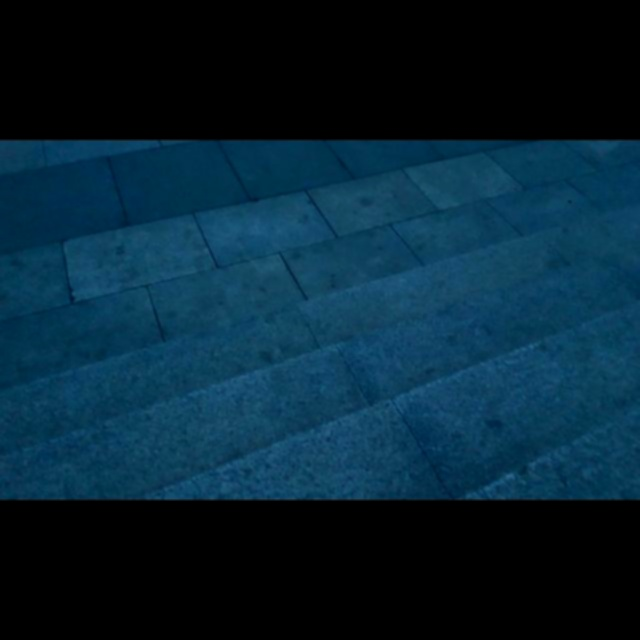stair: (29, 307, 640, 478)
